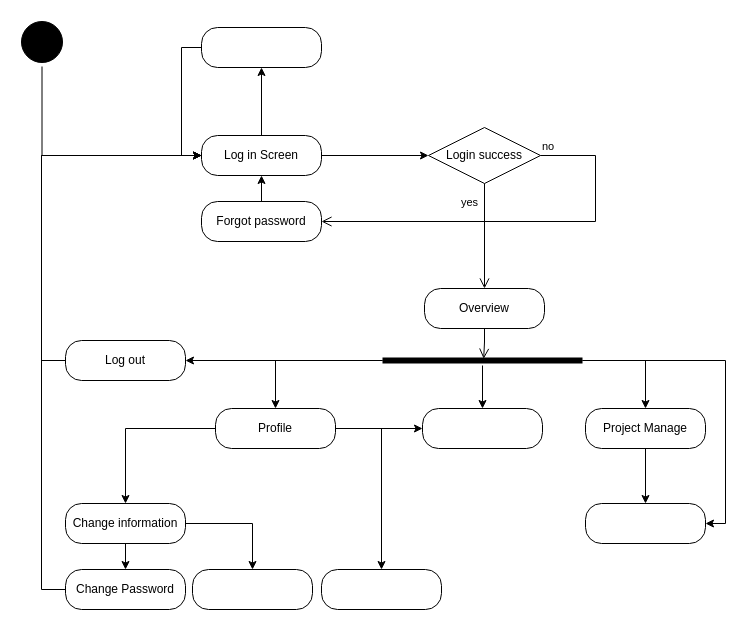
Some shapes in this 751 by 627 pixel diagram are drawn without their labels. The centre of each missing label's shape, as x and y in pixels:
Change Avatar, Name: (x=252, y=589)
Sign Up: (x=261, y=47)
Tasks: (x=645, y=523)
Users Data Statistics: (x=482, y=428)
View participating projects: (x=381, y=589)
